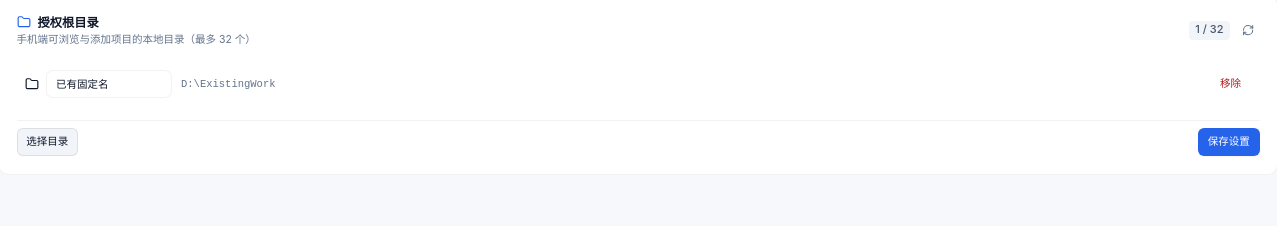
Test: AuthorizedRootsSettings Component › defaults display name to folder name when picking a folder
What coordinates should you click on to do the following:
click the button "选择目录"
I would click on:
 (47, 142)
Its box is [16,128,78,156].
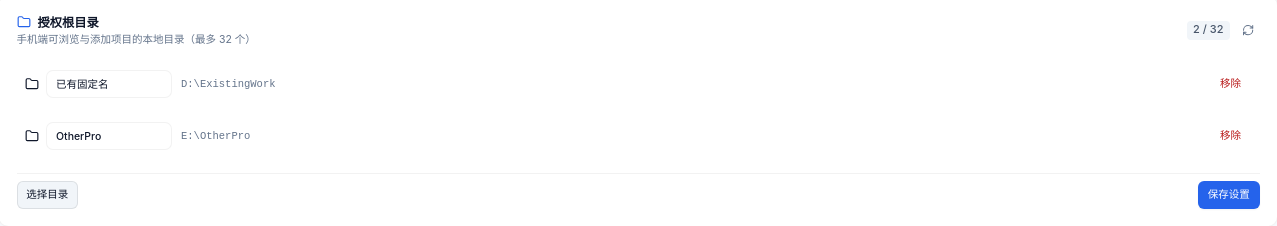
Expected: the number of fields named "根目录显示名称" is 2, [46,70,172,98]; [46,122,172,150]
Expected: the field named "根目录显示名称" next to "E:\\OtherPro" holds "OtherPro", [46,122,172,150]
Expected: the text "E:\\OtherPro" is shown, [181,130,250,142]
